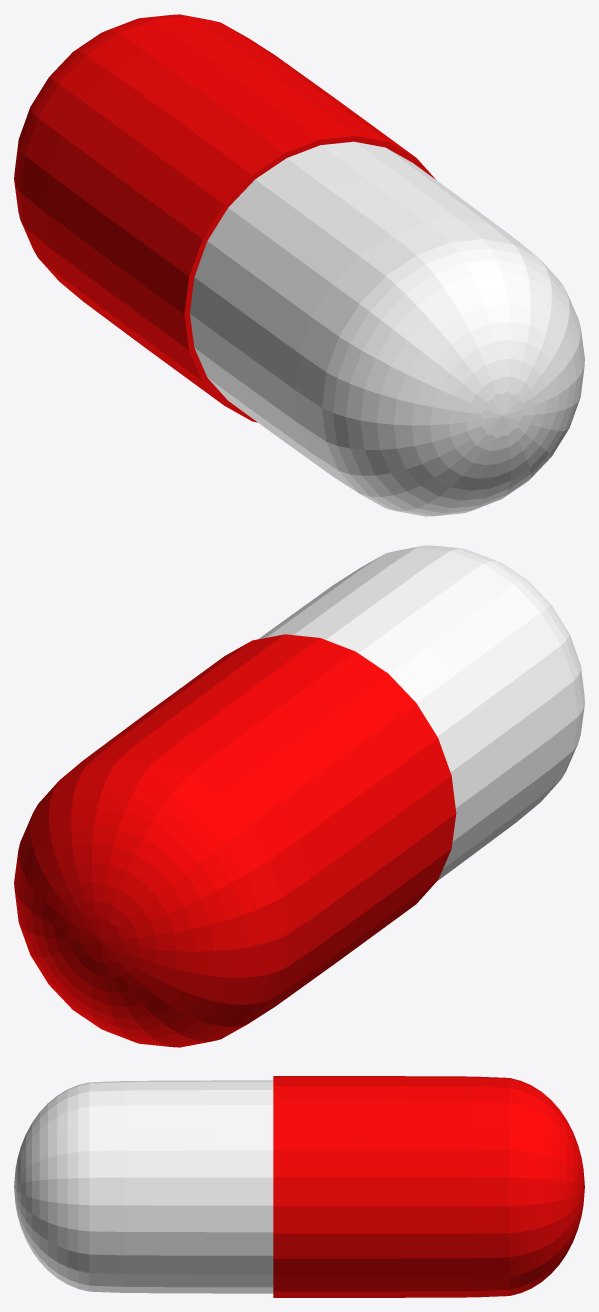
The model's file is c5270fa0-a0f8-4292-8265-aa810aad950a.glb.
3 views of the same model, one above another, from view 1: azimuth 30°, elevation 25°; view 2: azimuth 150°, elevation 25°; view 3: azimuth 270°, elevation 25° (orthographic). The views are drawn at different scales.
Visible parts, largest first — view 1: Capsule001, Capsule002; view 2: Capsule002, Capsule001; view 3: Capsule002, Capsule001.
Boxes of the visible parts, x1=… form: Capsule001: x1=190, y1=141, x2=584, y2=516; Capsule002: x1=14, y1=14, x2=435, y2=422; Capsule002: x1=14, y1=634, x2=456, y2=1047; Capsule001: x1=258, y1=545, x2=584, y2=880; Capsule002: x1=273, y1=1076, x2=584, y2=1297; Capsule001: x1=14, y1=1080, x2=273, y2=1293.
Bounding box in the file's own units: 191572 × 191572 × 491135.
